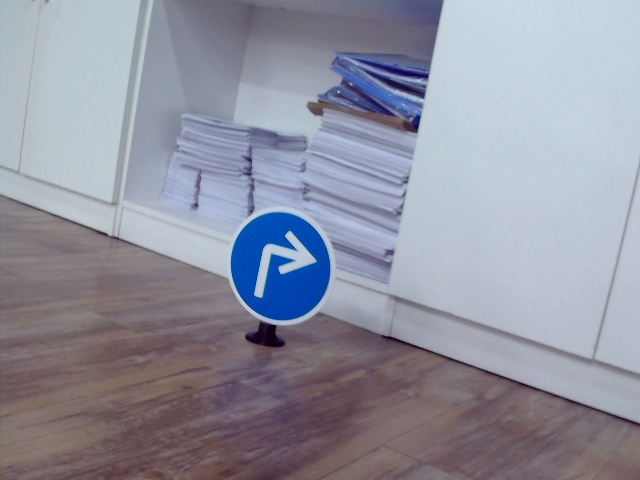turn_right: (247, 229, 314, 295)
